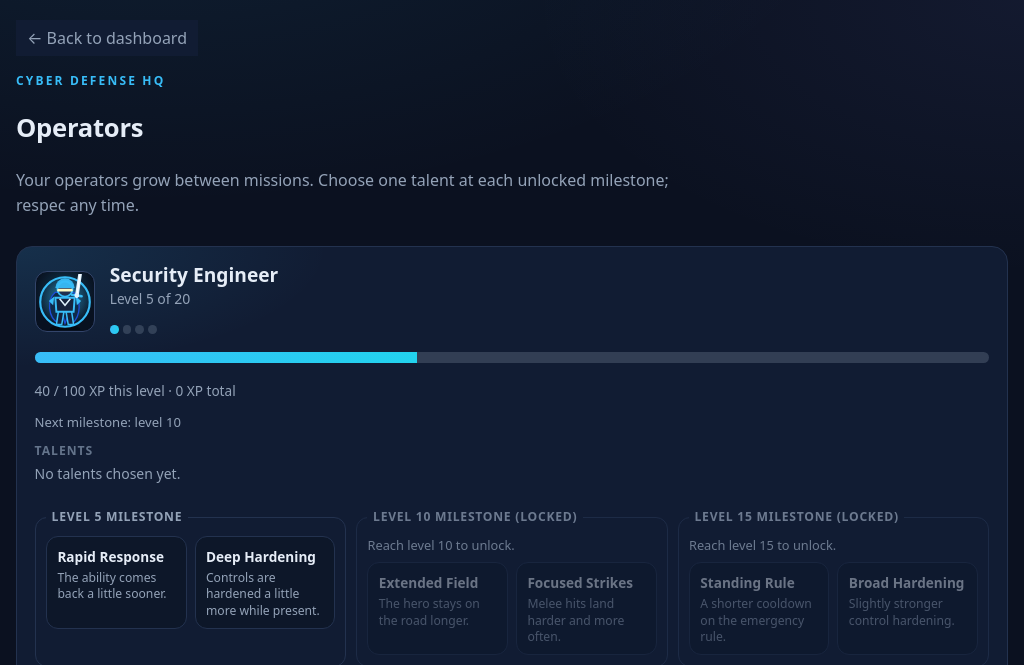
CyberDefenseHeroesPage › selects a talent at an unlocked milestone
Click the button "Rapid Response The ability comes back a little sooner.".
click(116, 582)  # box 46,536 -> 186,629
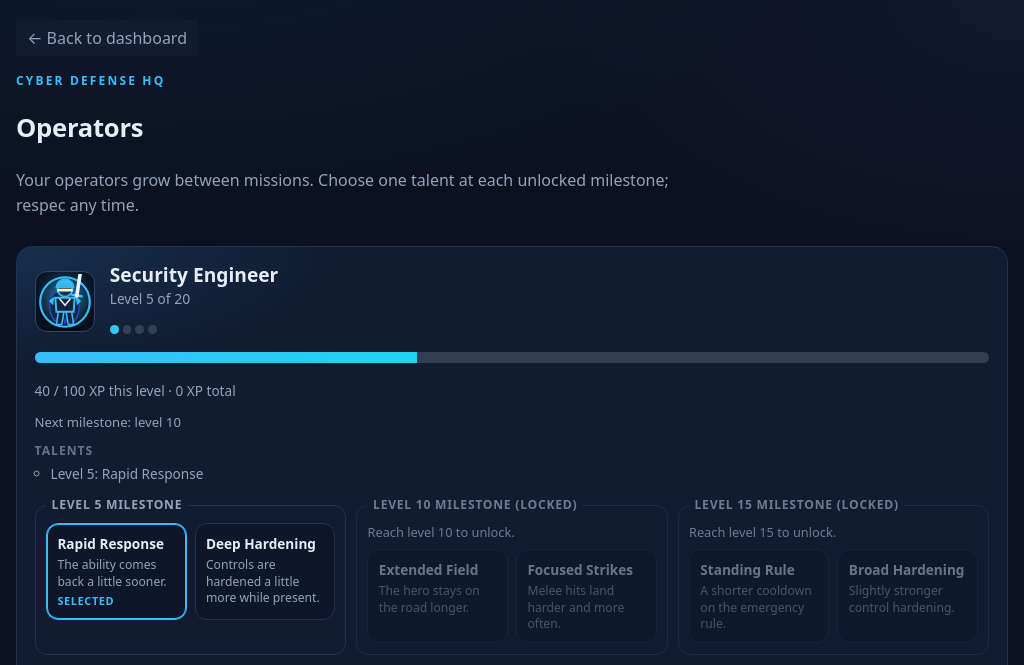
expect the list item "Level 5: Rapid Response" is shown: met, box 51,464 -> 203,483
